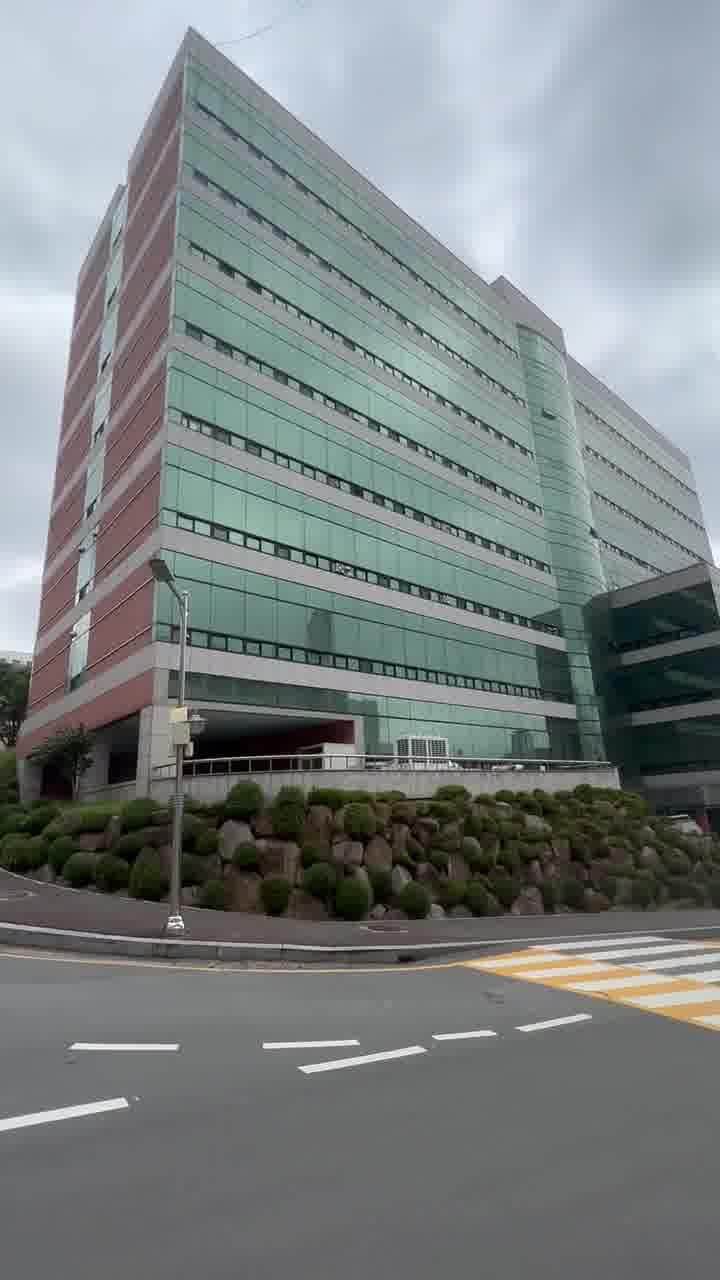building: (92, 94, 594, 740)
